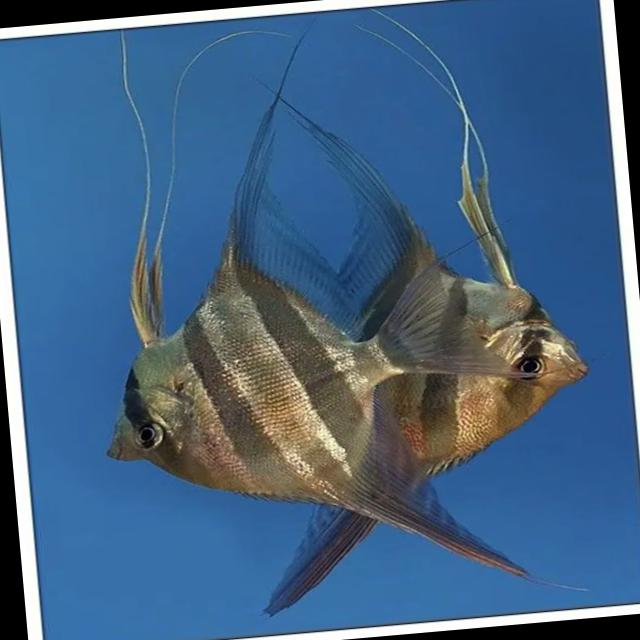AngelFish: (70, 63, 528, 628), (258, 58, 603, 616)
